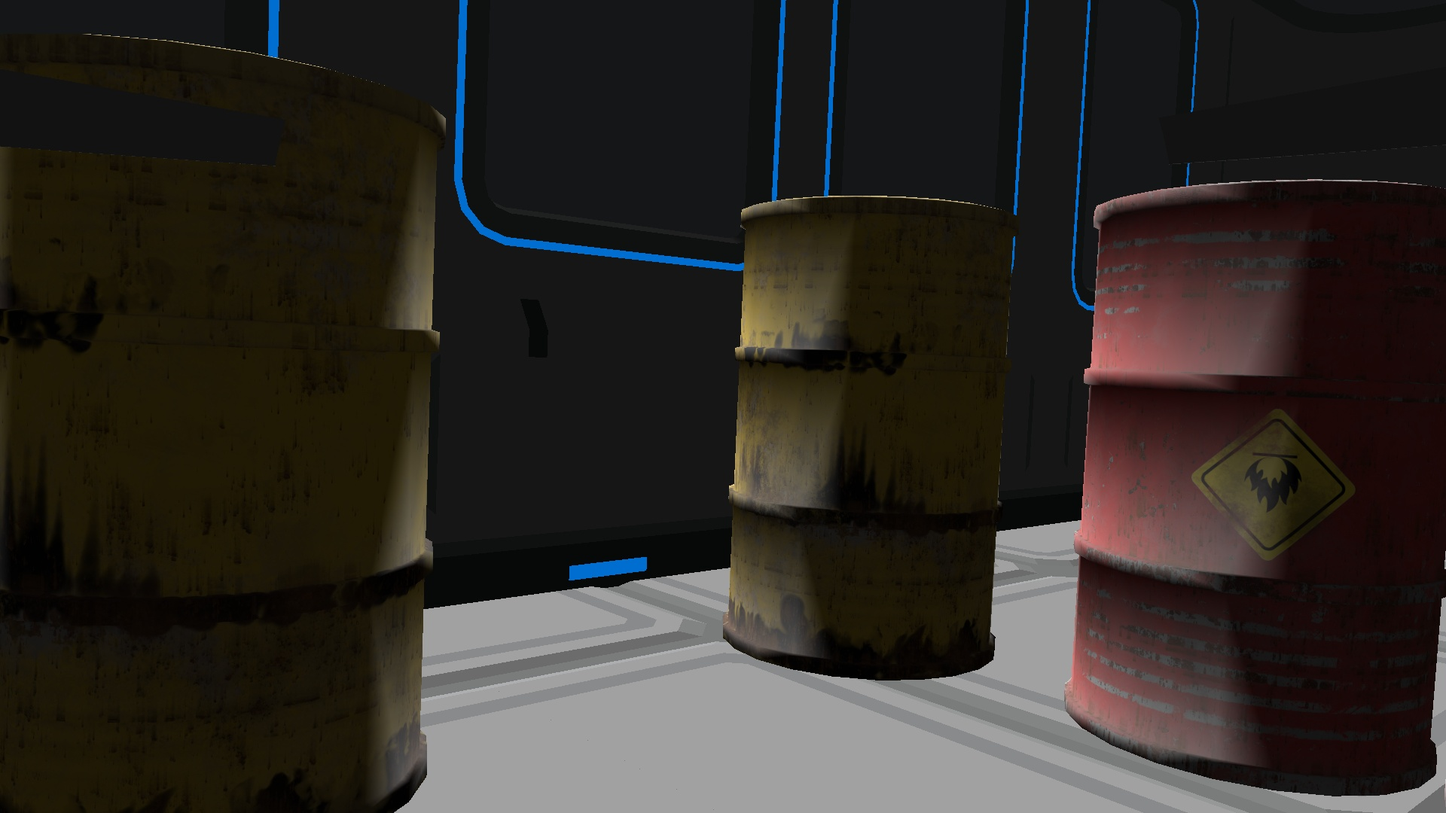toxic barrel: (0, 25, 447, 813), (1062, 178, 1446, 796), (719, 195, 1018, 680)
